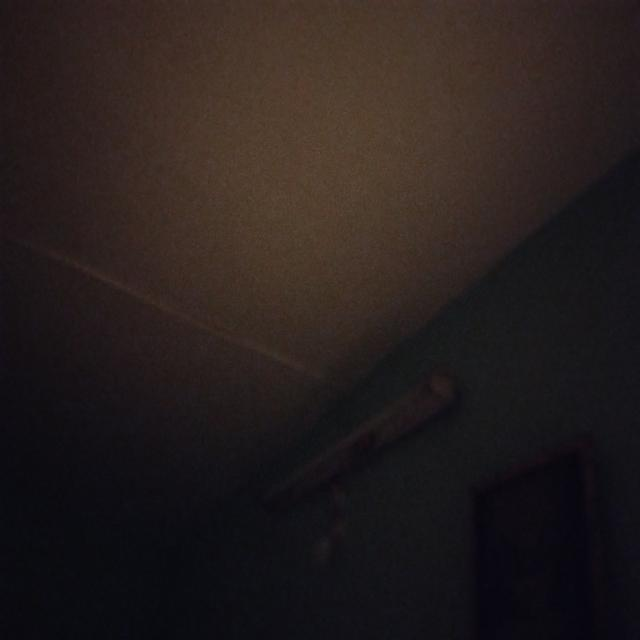tubelight_off: (262, 361, 462, 515)
